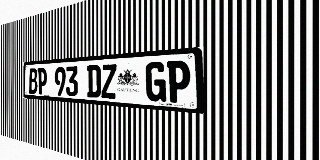3: (66, 66, 78, 97)
9: (55, 67, 65, 96)
B: (29, 68, 37, 94)
D: (87, 65, 101, 98)
G: (146, 61, 166, 102)
P: (167, 60, 190, 104), (38, 68, 47, 95)
Z: (101, 64, 116, 99)
